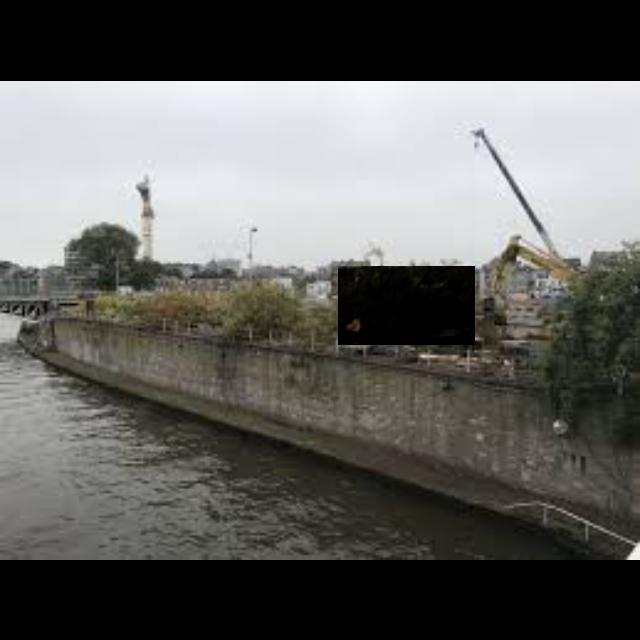fallen_tree: (338, 266, 476, 346)
